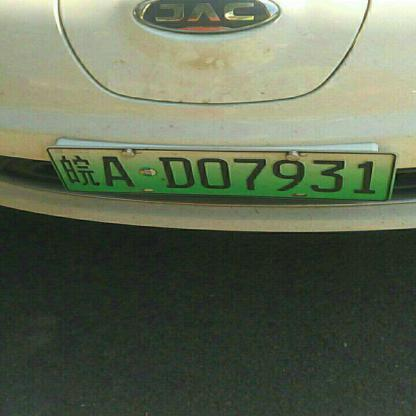lp: (44, 149, 67, 203)
